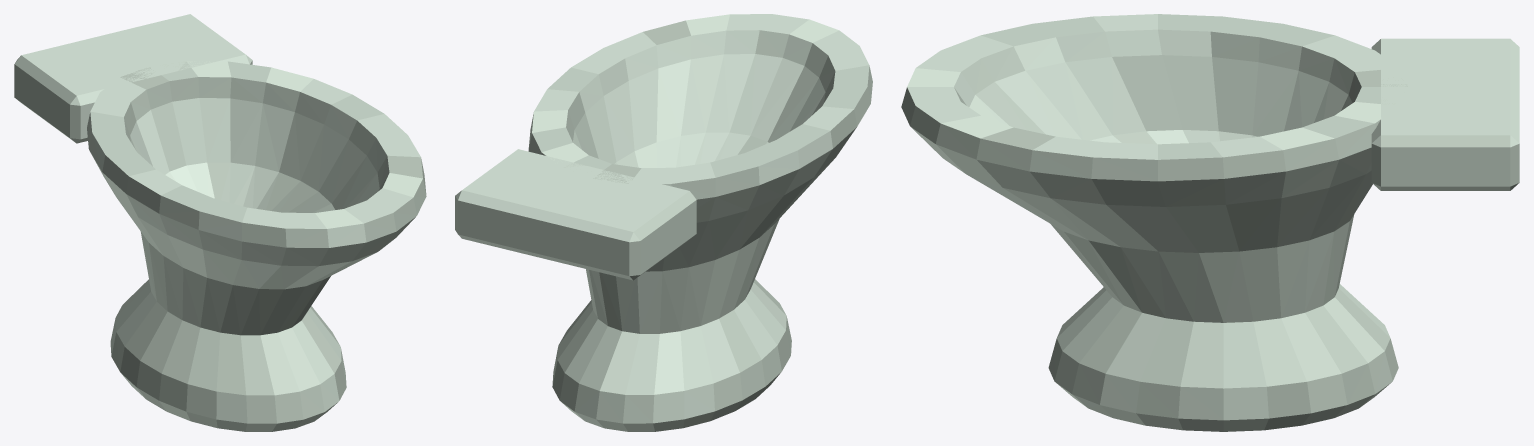
The model's file is EB_OvalBowl.fbx.
The picture shows the model from 3 angles, left to right: view 1: azimuth 30°, elevation 25°; view 2: azimuth 150°, elevation 25°; view 3: azimuth 270°, elevation 25°; orthographic projection. The views are drawn at different scales.
Visible parts, largest first — view 1: EB_OvalBowl; view 2: EB_OvalBowl; view 3: EB_OvalBowl.
Part boxes in pixels (box(x1,y1,x2,y2)): EB_OvalBowl: box(14, 14, 426, 431); EB_OvalBowl: box(455, 14, 872, 431); EB_OvalBowl: box(901, 14, 1519, 431).
Bounding box in the file's own units: 0.428 × 0.4 × 0.752.
